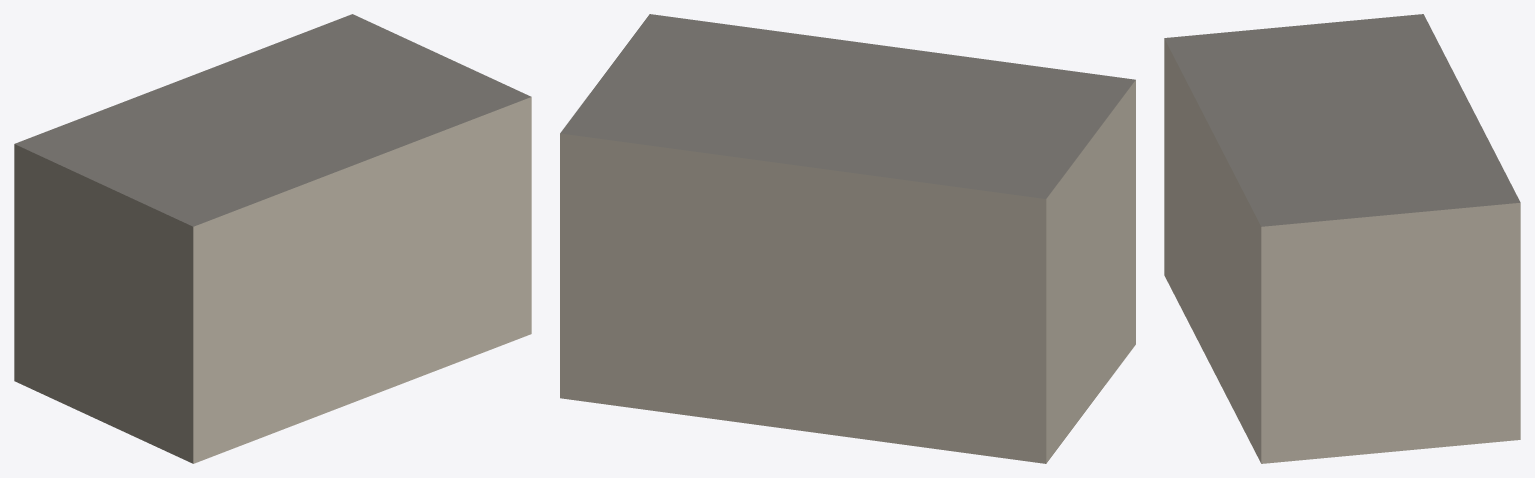
3 views of the same model, side by side, from view 1: azimuth 30°, elevation 25°; view 2: azimuth 150°, elevation 25°; view 3: azimuth 270°, elevation 25° (orthographic). The views are drawn at different scales.
Parts seen in each view (by area): view 1: HP-w378107199; view 2: HP-w378107199; view 3: HP-w378107199.
Boxes of the visible parts, x1,y1,x2,y2 form: HP-w378107199: (14,14,531,463); HP-w378107199: (560,14,1135,463); HP-w378107199: (1164,14,1520,463).
Size of the model in its own units: 28.87 by 15 by 20.43.
